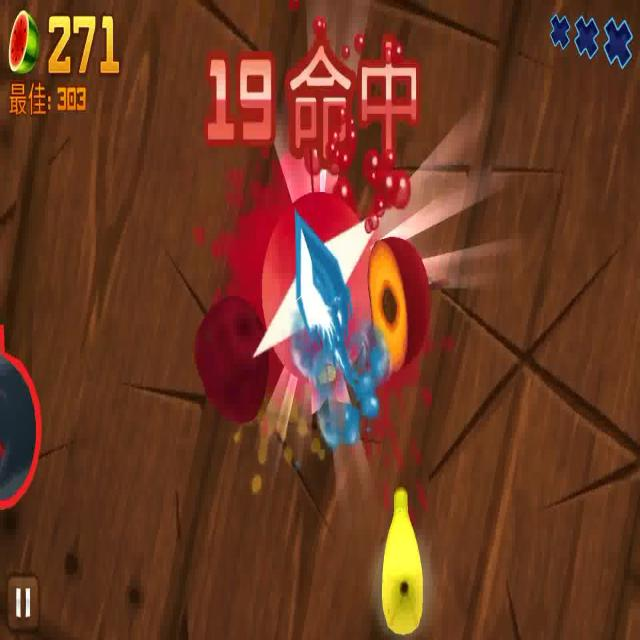bomb: (0, 322, 46, 509)
fruit: (264, 186, 370, 379), (195, 284, 269, 420), (370, 237, 432, 369), (383, 486, 424, 634)
